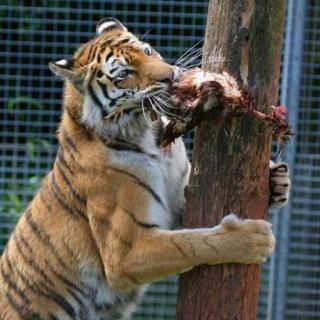Tiger: (23, 15, 211, 320)
